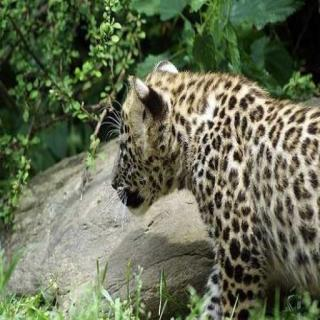Leopard: (125, 45, 320, 320)
